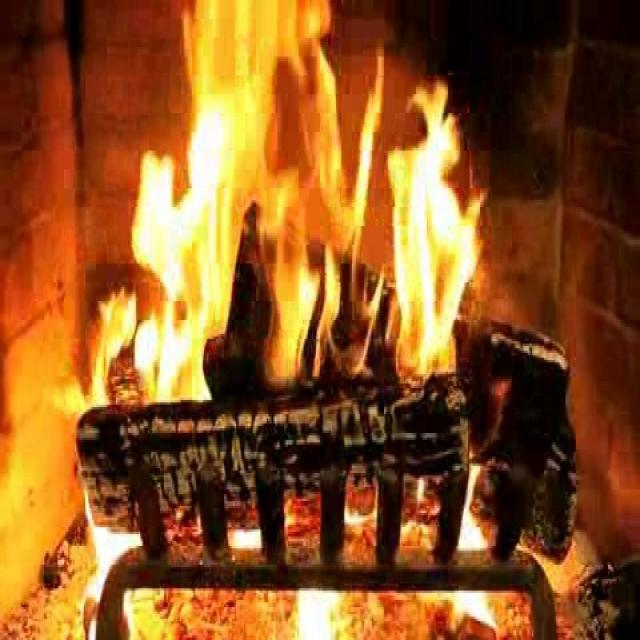Fire: (136, 10, 488, 382)
